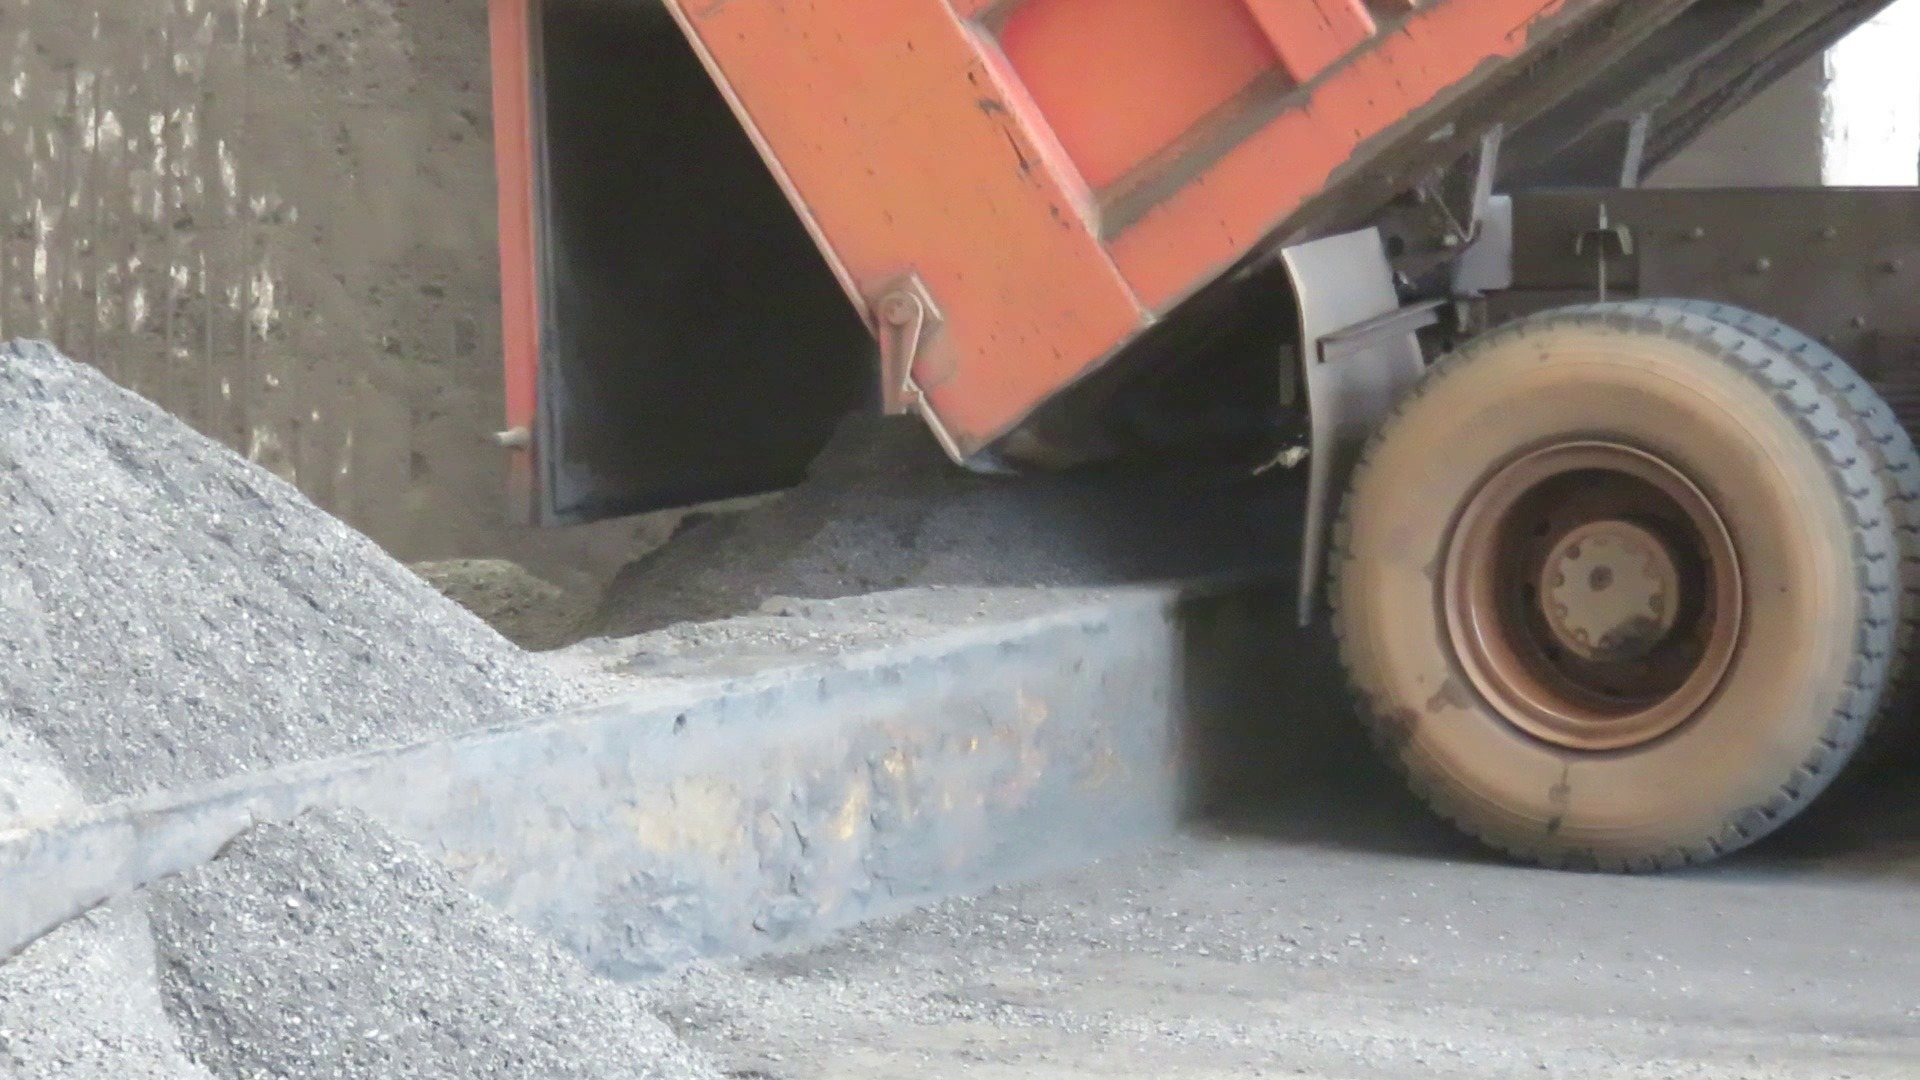truck: (607, 0, 1920, 899)
